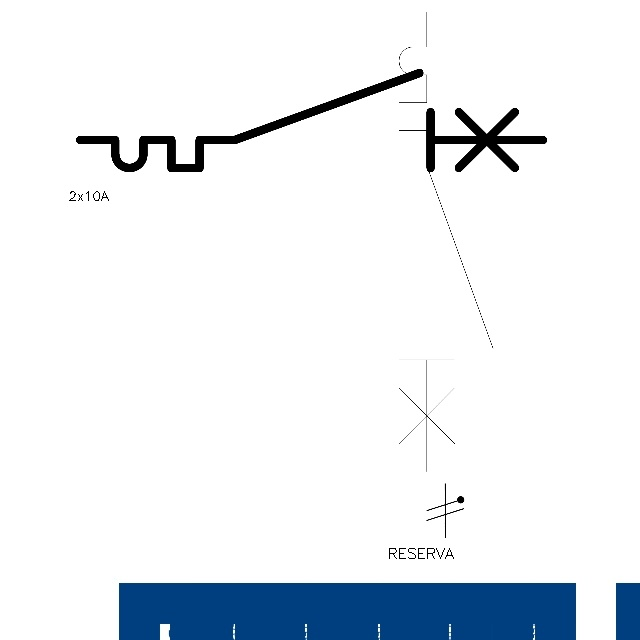interruptor_termomagnetico: (68, 61, 555, 180), (387, 0, 505, 483)
